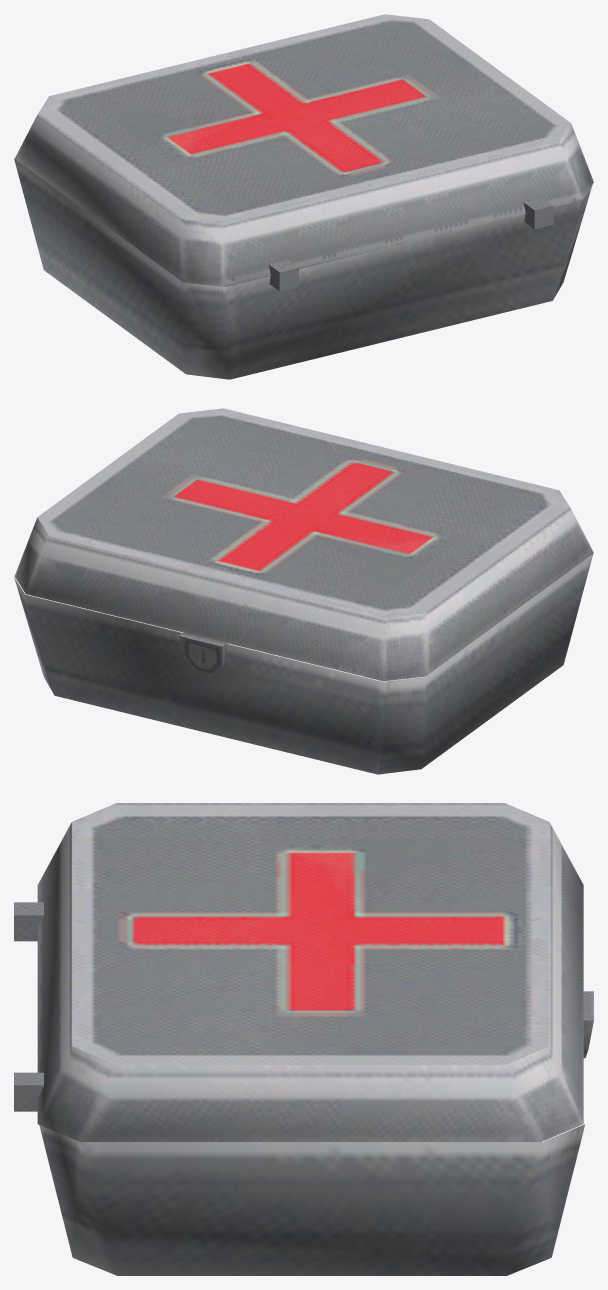
Rendered from Pickup_Aid1.glb.
3 renders of one model, top to bottom at view 1: azimuth 30°, elevation 25°; view 2: azimuth 150°, elevation 25°; view 3: azimuth 270°, elevation 25°, orthographic. The views are drawn at different scales.
Parts seen in each view (by area): view 1: pk_Aid1; view 2: pk_Aid1; view 3: pk_Aid1.
Part boxes in pixels (x1=…): pk_Aid1: x1=14, y1=14, x2=593, y2=379; pk_Aid1: x1=14, y1=408, x2=593, y2=774; pk_Aid1: x1=14, y1=803, x2=593, y2=1275.
Bounding box in the file's own units: 0.4916 × 0.1803 × 0.4392.
1 material, 1 textured.
